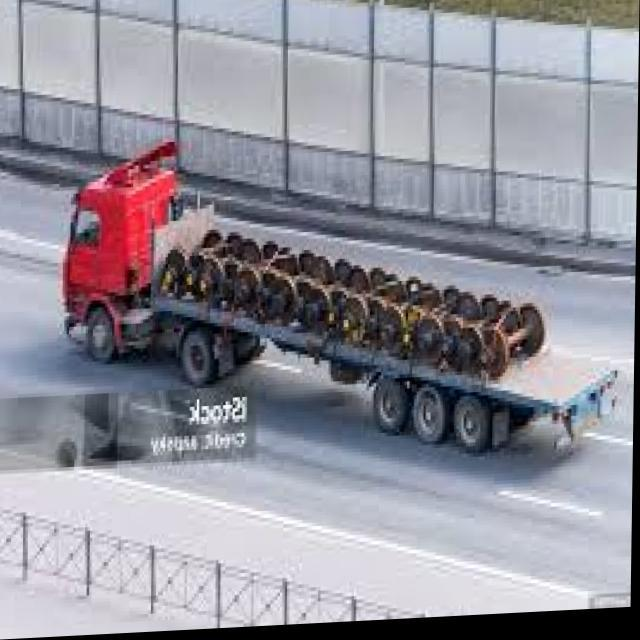uncovered: (67, 124, 618, 483)
